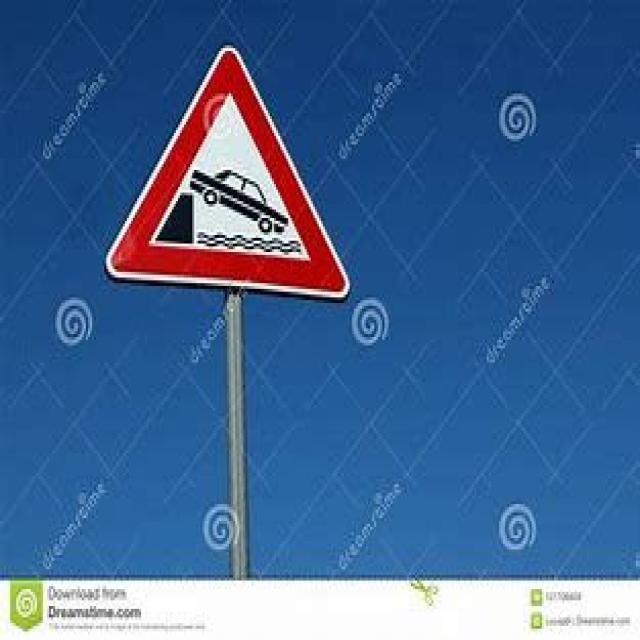quay side or river bank: (108, 44, 351, 302)
